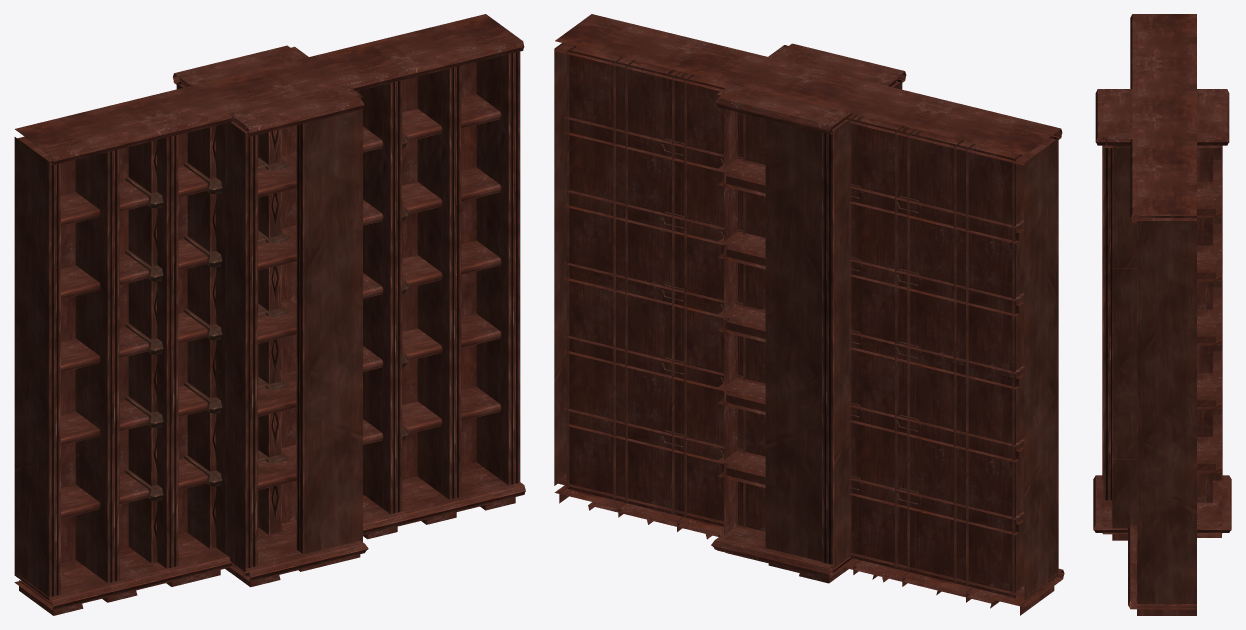
File: book_maze.fbx
The picture shows the model from 3 angles, left to right: view 1: azimuth 30°, elevation 25°; view 2: azimuth 150°, elevation 25°; view 3: azimuth 270°, elevation 25°; orthographic projection. The views are drawn at different scales.
Visible parts, largest first — view 1: book_maze_IIII, book_maze_III, book_maze_II, book_maze_U, book_maze_T, book_maze_G, book_maze_I; view 2: book_maze_IIII, book_maze_III, book_maze_G, book_maze_U, book_maze_II, book_maze_T, book_maze_I; view 3: book_maze_IIII, book_maze_G, book_maze_U, book_maze_T, book_maze_II.
Part boxes in pixels (bbox=[...]): book_maze_IIII: bbox=[14, 14, 525, 615]; book_maze_III: bbox=[75, 66, 466, 602]; book_maze_II: bbox=[132, 43, 407, 586]; book_maze_U: bbox=[177, 46, 362, 571]; book_maze_T: bbox=[173, 45, 368, 587]; book_maze_G: bbox=[180, 78, 360, 576]; book_maze_I: bbox=[215, 118, 296, 572]; book_maze_IIII: bbox=[554, 14, 1064, 615]; book_maze_III: bbox=[613, 57, 975, 602]; book_maze_G: bbox=[765, 47, 897, 573]; book_maze_U: bbox=[717, 45, 855, 582]; book_maze_II: bbox=[672, 42, 943, 586]; book_maze_T: bbox=[711, 43, 906, 583]; book_maze_I: bbox=[738, 113, 858, 572]; book_maze_IIII: bbox=[1128, 14, 1196, 615]; book_maze_G: bbox=[1103, 137, 1213, 540]; book_maze_U: bbox=[1103, 137, 1221, 537]; book_maze_T: bbox=[1093, 89, 1231, 533]; book_maze_II: bbox=[1128, 64, 1196, 553].
Bounding box in the file's own units: 400 × 375 × 117.
